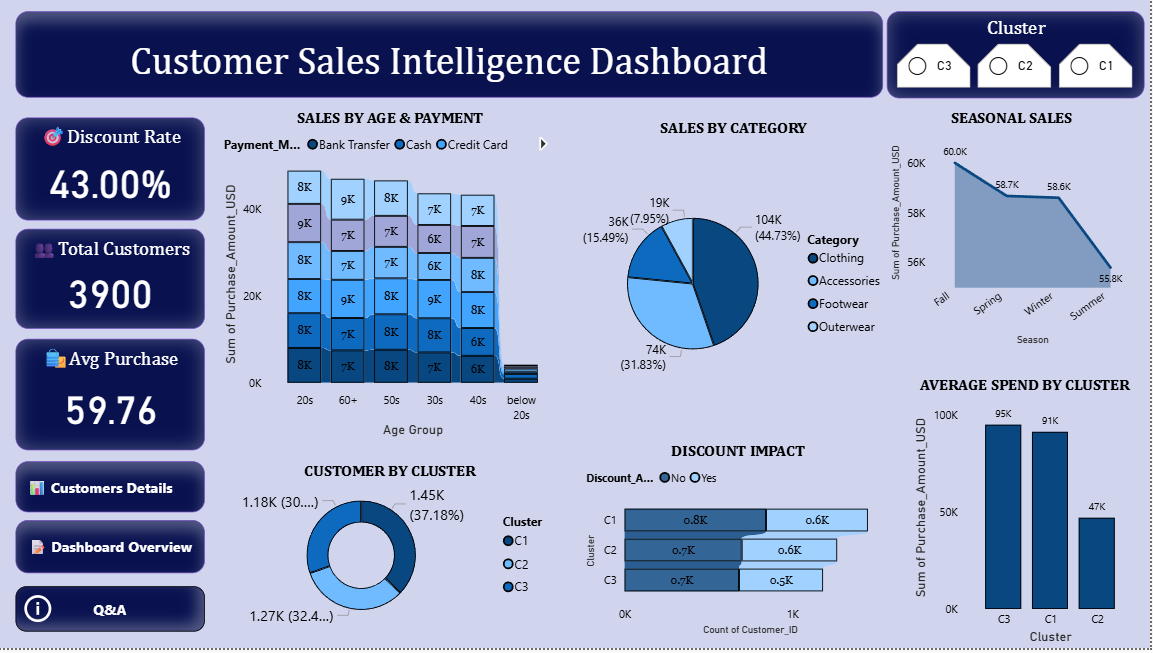

The dashboard page shown, as its layout file describes it:
{"tool":"powerbi","page":{"name":"Page 3","canvas":[1280,720],"ordinal":0},"visuals":[{"type":"textbox","box":[19.2,12.8,964.1,96.2],"z":0},{"type":"card","title":"🎯Discount Rate","fields":{"Values":["Sheet1.Discount Usage %"]},"box":[19.2,130.8,210.3,114.1],"z":1000},{"type":"card","title":"👥Total Customers","fields":{"Values":["Sheet1.Total Customer"]},"box":[19.2,253.8,210.3,111.5],"z":2000},{"type":"card","title":"🛍️Avg Purchase","fields":{"Values":["Avg(Sheet1.Purchase_Amount_USD)"]},"box":[19.2,376.9,210.3,124.4],"z":3000},{"type":"donutChart","title":"CUSTOMER  BY CLUSTER ","fields":{"Category":["Sheet1.Cluster"],"Y":["CountNonNull(Sheet1.Customer_ID)"]},"box":[242.3,512.8,387.2,188.5],"z":4000},{"type":"barChart","title":"DISCOUNT IMPACT","fields":{"Y":["CountNonNull(Sheet1.Customer_ID)"],"Category":["Sheet1.Cluster"],"Series":["Sheet1.Discount_Applied"]},"box":[648.7,489.7,347.4,220.5],"z":5000},{"type":"columnChart","title":"SALES BY AGE & PAYMENT","fields":{"Category":["Sheet1.Age Group"],"Series":["Sheet1.Payment_Method"],"Y":["Sum(Sheet1.Purchase_Amount_USD)"]},"box":[246.2,119.2,379.5,370.5],"z":6000},{"type":"pieChart","title":"SALES BY CATEGORY ","fields":{"Category":["Sheet1.Category"],"Y":["Sum(Sheet1.Purchase_Amount_USD)"]},"box":[639.7,130.8,353.8,348.7],"z":7000},{"type":"areaChart","title":"SEASONAL SALES","fields":{"Category":["Sheet1.Season"],"Y":["Sum(Sheet1.Purchase_Amount_USD)"]},"box":[987.2,119.2,276.9,269.2],"z":8000},{"type":"advancedSlicerVisual","title":"Cluster","fields":{"Values":["Sheet1.Cluster"]},"box":[986.8,12.2,286.1,96.6],"z":9000},{"type":"clusteredColumnChart","title":"AVERAGE SPEND BY CLUSTER","fields":{"Category":["Sheet1.Cluster"],"Y":["Sum(Sheet1.Purchase_Amount_USD)"]},"box":[1012.8,416.7,256.4,303.8],"z":10000},{"type":"actionButton","box":[19.2,512.8,210.3,56.4],"z":11000},{"type":"actionButton","box":[19.2,651.3,210.3,50],"z":12000},{"type":"actionButton","box":[19.2,578.2,210.3,59],"z":13000}]}

Visuals, with their boxes in screenshot pixels (x1, y1, x2, y2), scaled from the page's 1280x720 canvas onto the 1153x653 screenshot:
textbox: <bbox>17, 12, 886, 99</bbox>
"🎯Discount Rate" card: <bbox>17, 119, 207, 222</bbox>
"👥Total Customers" card: <bbox>17, 230, 207, 331</bbox>
"🛍️Avg Purchase" card: <bbox>17, 342, 207, 455</bbox>
"CUSTOMER  BY CLUSTER " donutChart: <bbox>218, 465, 567, 636</bbox>
"DISCOUNT IMPACT" barChart: <bbox>584, 444, 897, 644</bbox>
"SALES BY AGE & PAYMENT" columnChart: <bbox>222, 108, 564, 444</bbox>
"SALES BY CATEGORY " pieChart: <bbox>576, 119, 895, 435</bbox>
"SEASONAL SALES" areaChart: <bbox>889, 108, 1139, 352</bbox>
"Cluster" advancedSlicerVisual: <bbox>889, 11, 1147, 99</bbox>
"AVERAGE SPEND BY CLUSTER" clusteredColumnChart: <bbox>912, 378, 1143, 652</bbox>
actionButton: <bbox>17, 465, 207, 516</bbox>
actionButton: <bbox>17, 591, 207, 636</bbox>
actionButton: <bbox>17, 524, 207, 578</bbox>
